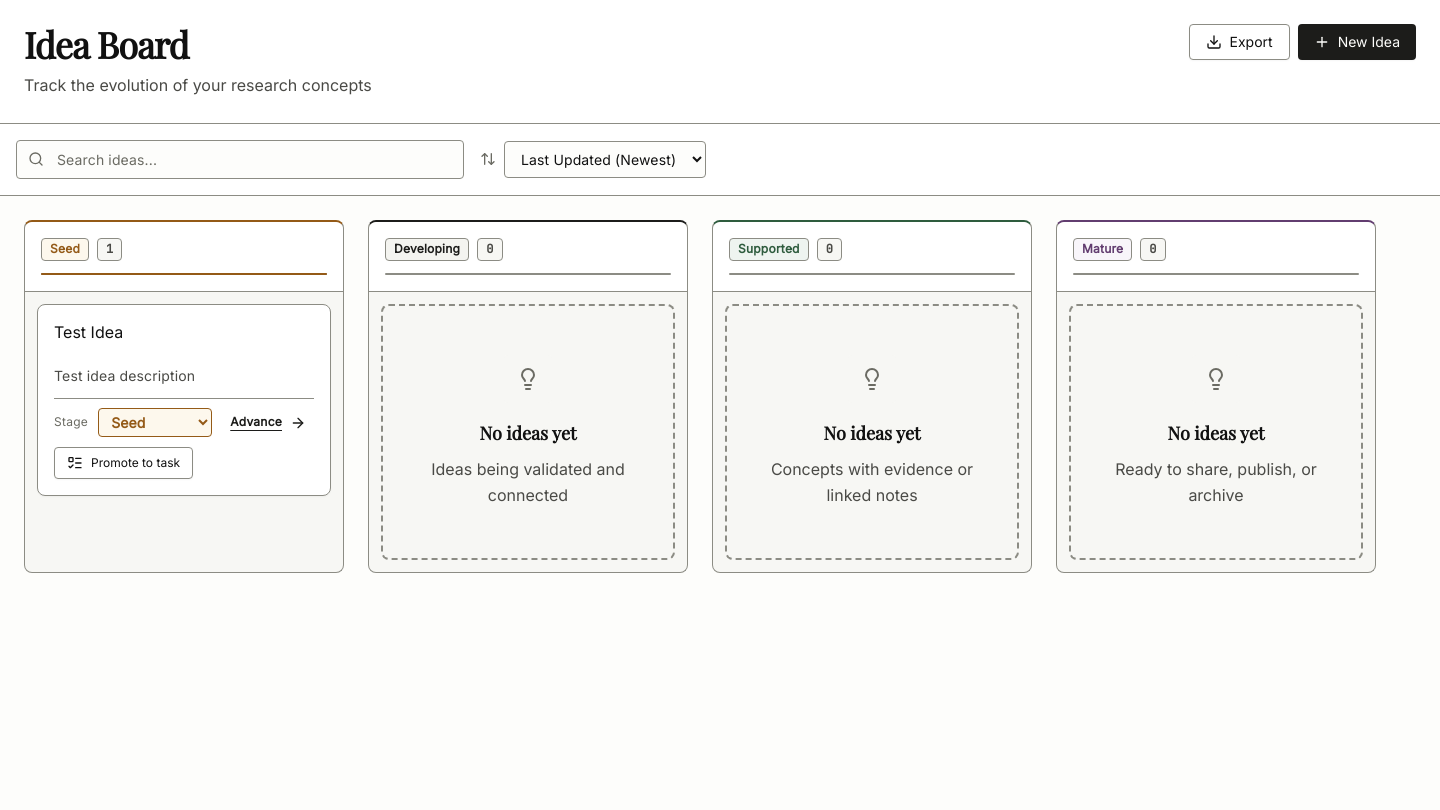
Scenario: IdeasBoard Accessibility › dialog inputs have accessible labels
Note: Open the dialog
Click the button "New Idea" at (1357, 42), box [1298,24,1416,60]
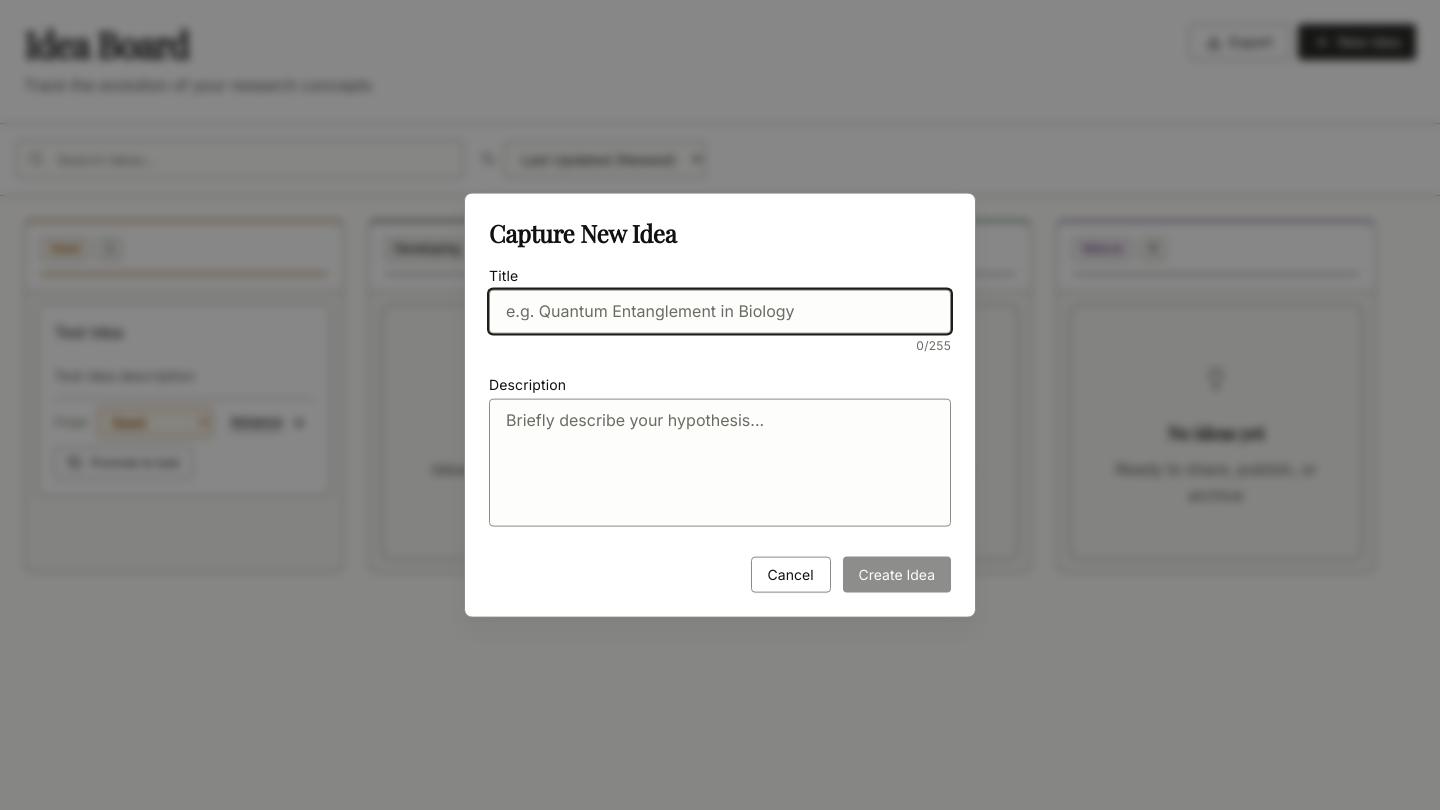
Expected: the dialog is shown, [464,193,976,617]
